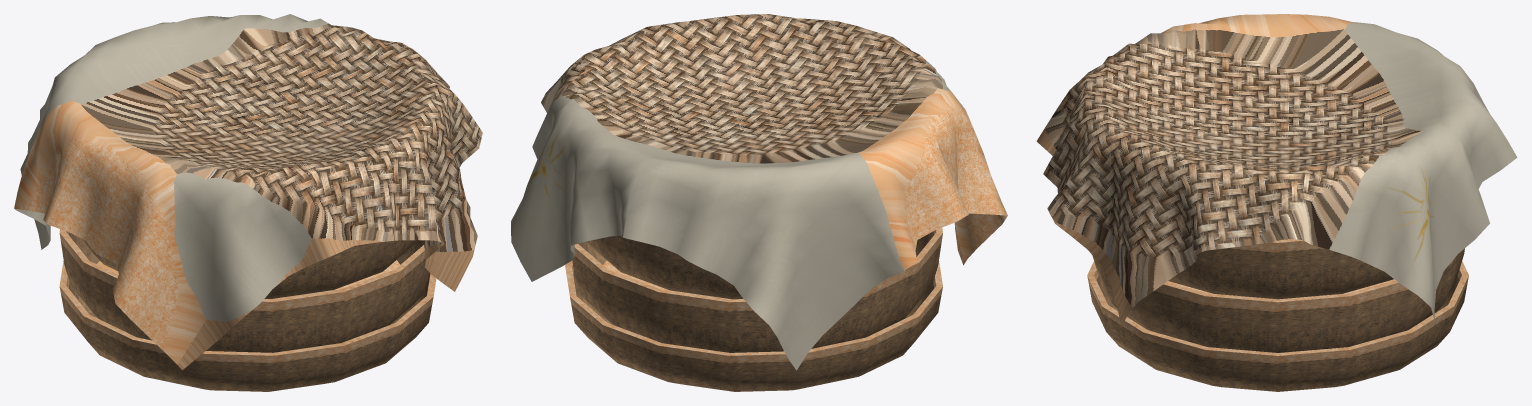
The model's file is Basin_7.FBX.
3 views of the same model, side by side, from view 1: azimuth 30°, elevation 25°; view 2: azimuth 150°, elevation 25°; view 3: azimuth 270°, elevation 25° (orthographic).
Parts seen in each view (by area): view 1: Basin_7; view 2: Basin_7; view 3: Basin_7.
Part boxes in pixels (x1,y1,x2,y2): Basin_7: [14, 14, 482, 391]; Basin_7: [511, 14, 1007, 391]; Basin_7: [1036, 14, 1517, 391].
Bounding box in the file's own units: 33.12 × 18.32 × 33.43.
